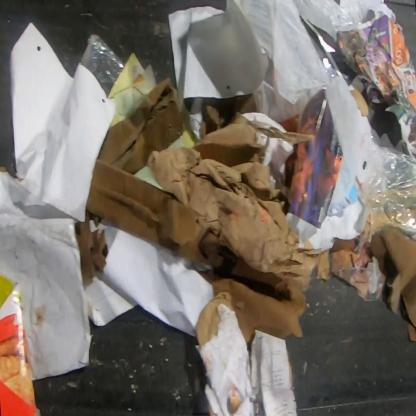cardboard: (74, 77, 308, 345), (189, 93, 316, 247), (0, 172, 93, 380), (0, 273, 42, 415), (250, 330, 298, 416), (194, 292, 232, 346), (350, 88, 370, 117)
soft_plastic: (241, 0, 370, 96), (324, 77, 405, 218), (353, 133, 415, 254), (79, 31, 126, 97)
